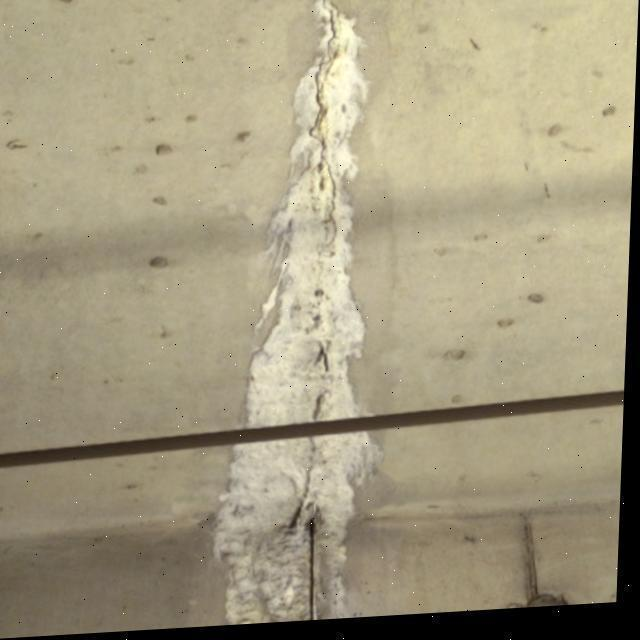D01: (242, 2, 368, 429), (214, 434, 385, 625)
